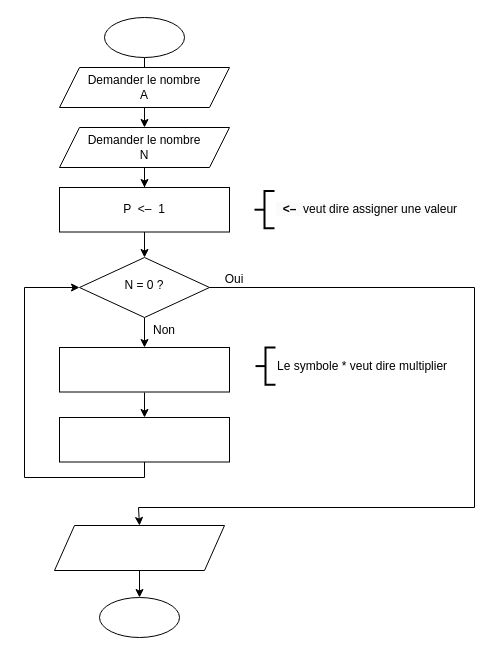
This 500x655 diagram has some shape labels left out. Here are the shapes that lost their labels. From the top down, the box of each, then its label:
(58, 346, 230, 392): P <– P * A
(58, 416, 230, 462): N <– N –1
(54, 524, 224, 570): Afficher : P
